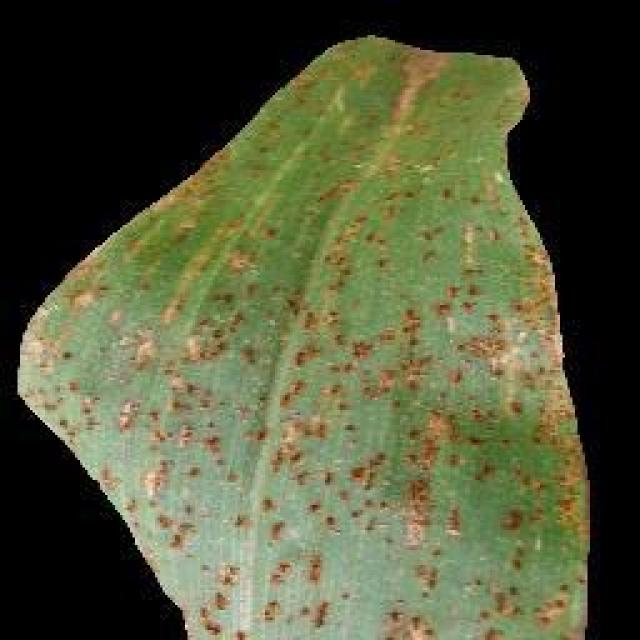Corn Common Rust: (157, 156, 545, 636)
